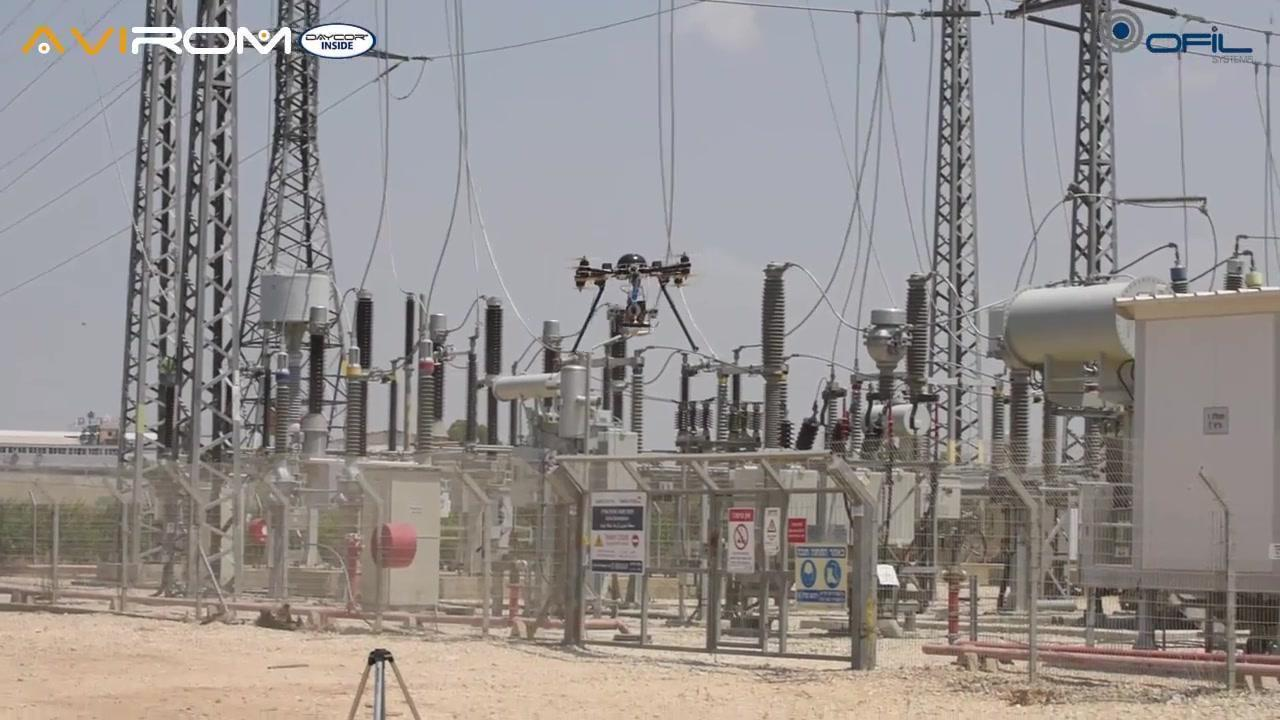UAV: (569, 253, 692, 294)
